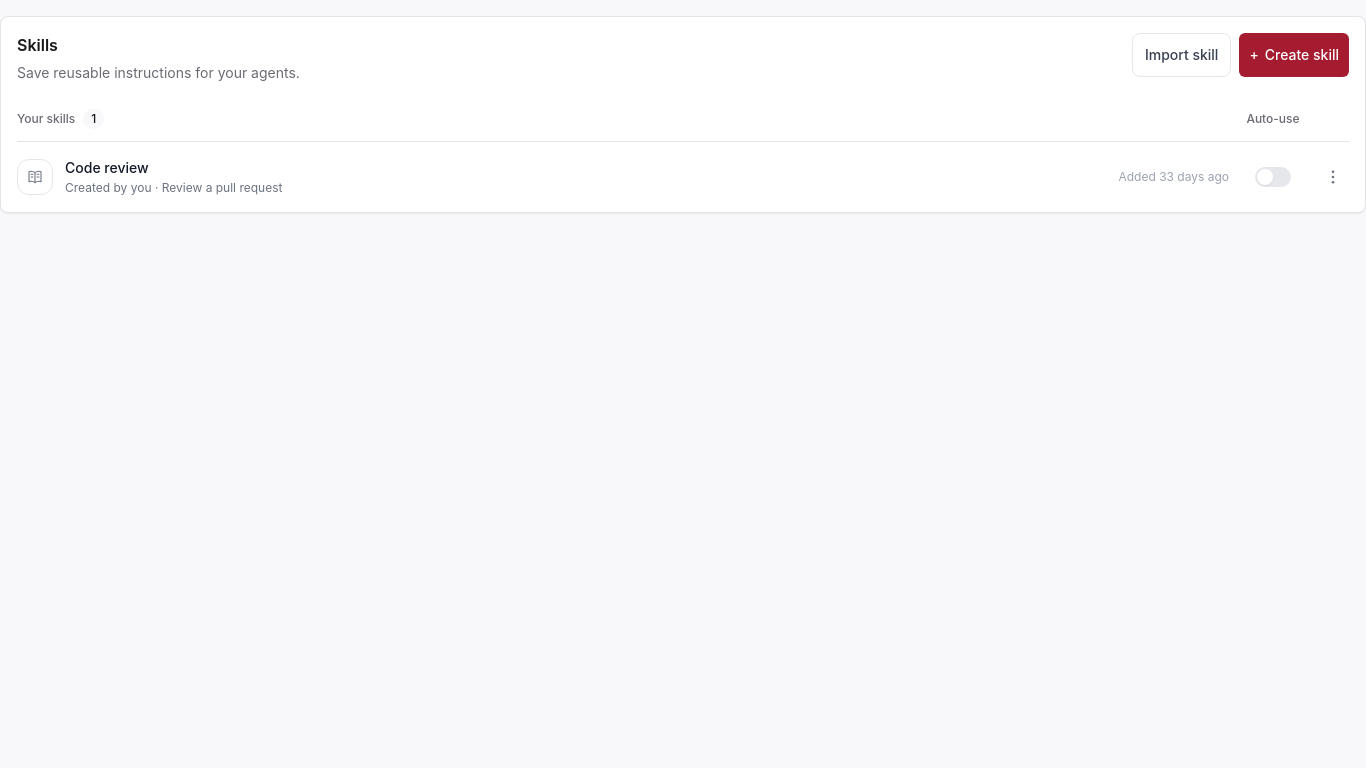
Test case: advertises and checks the current server skill size in the editor
expect the button named "Manage Code review" is shown: met, box [1317,161,1349,193]
Click the button "+ Create skill" at (1294, 55), box [1239,33,1349,77]
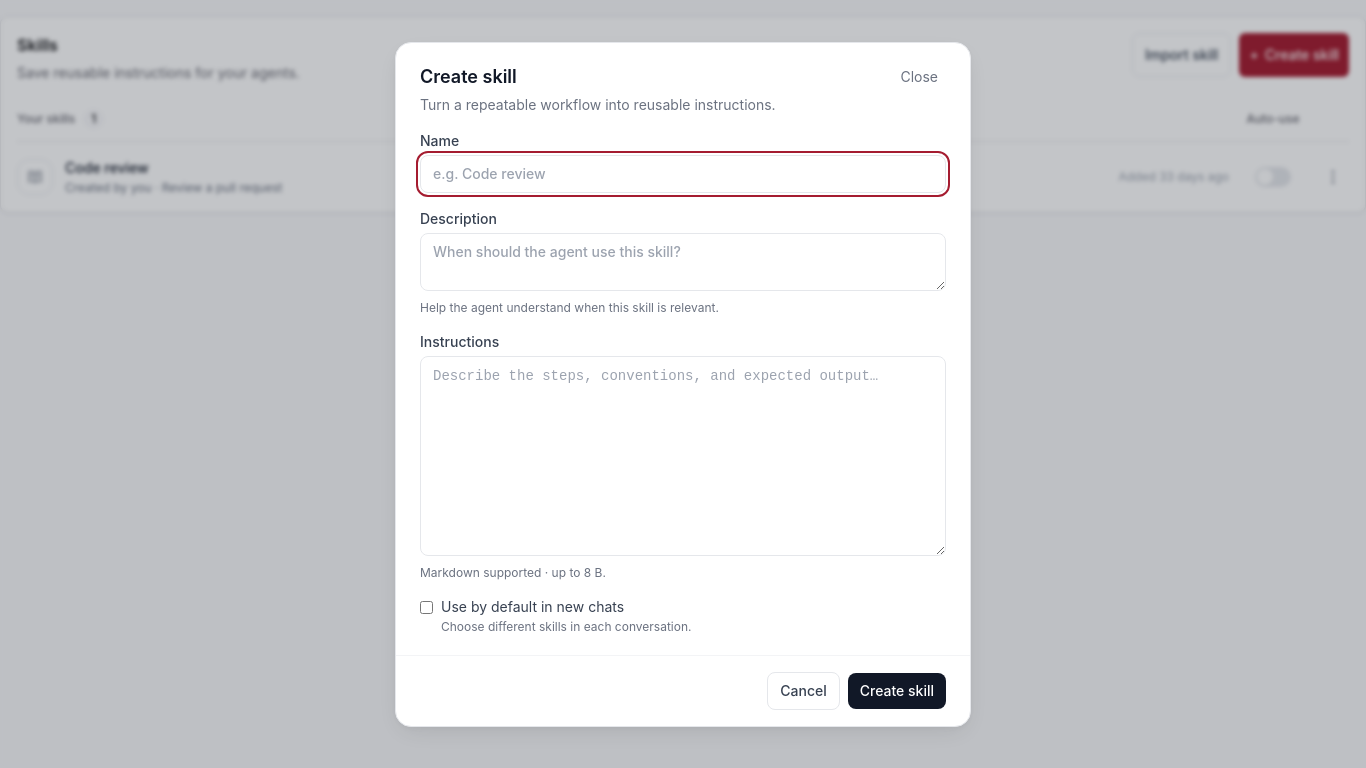
expect the text "Markdown supported · up to 8 B." is shown: met, box [420,564,606,580]
Type "Review" into the field labelled "Name" at (683, 174), box [420,154,946,192]
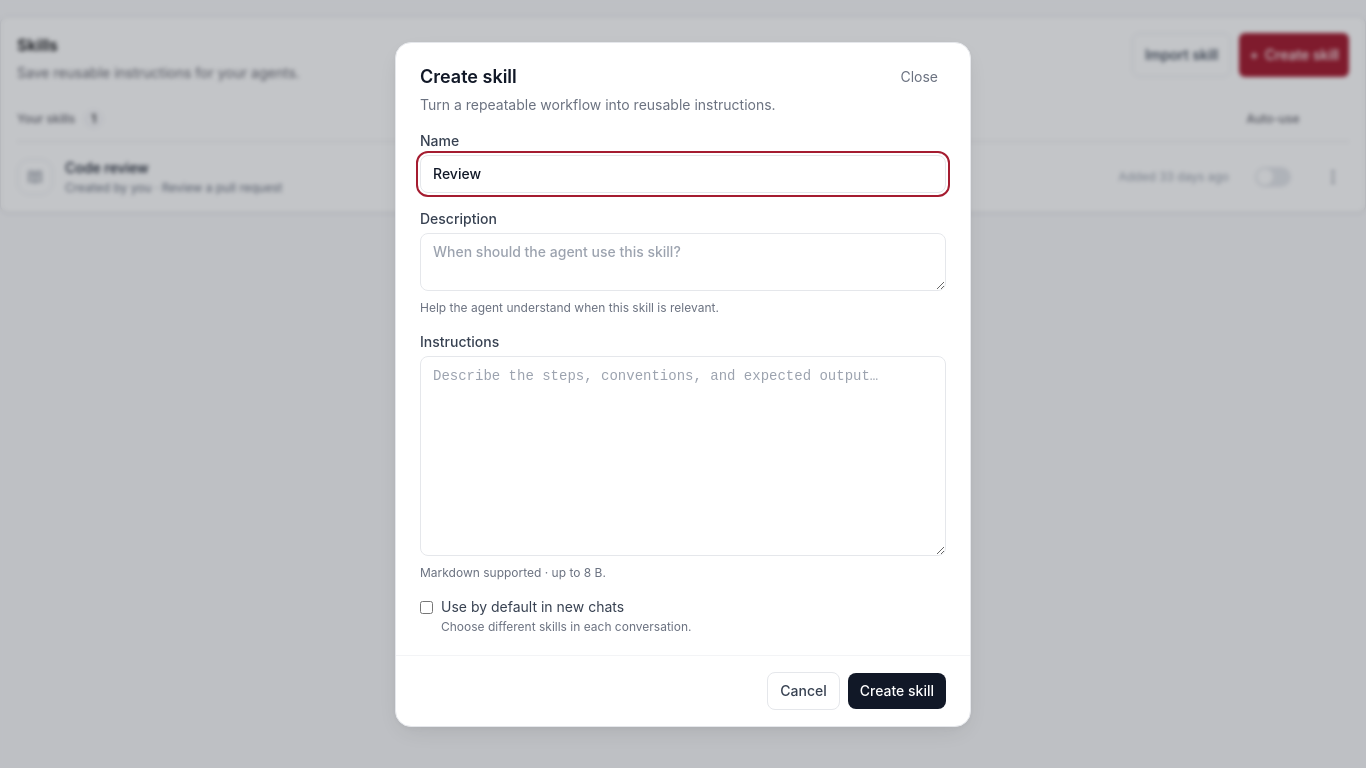
Type "Review" into the text box labelled "Description" at (683, 262), box [420,232,946,290]
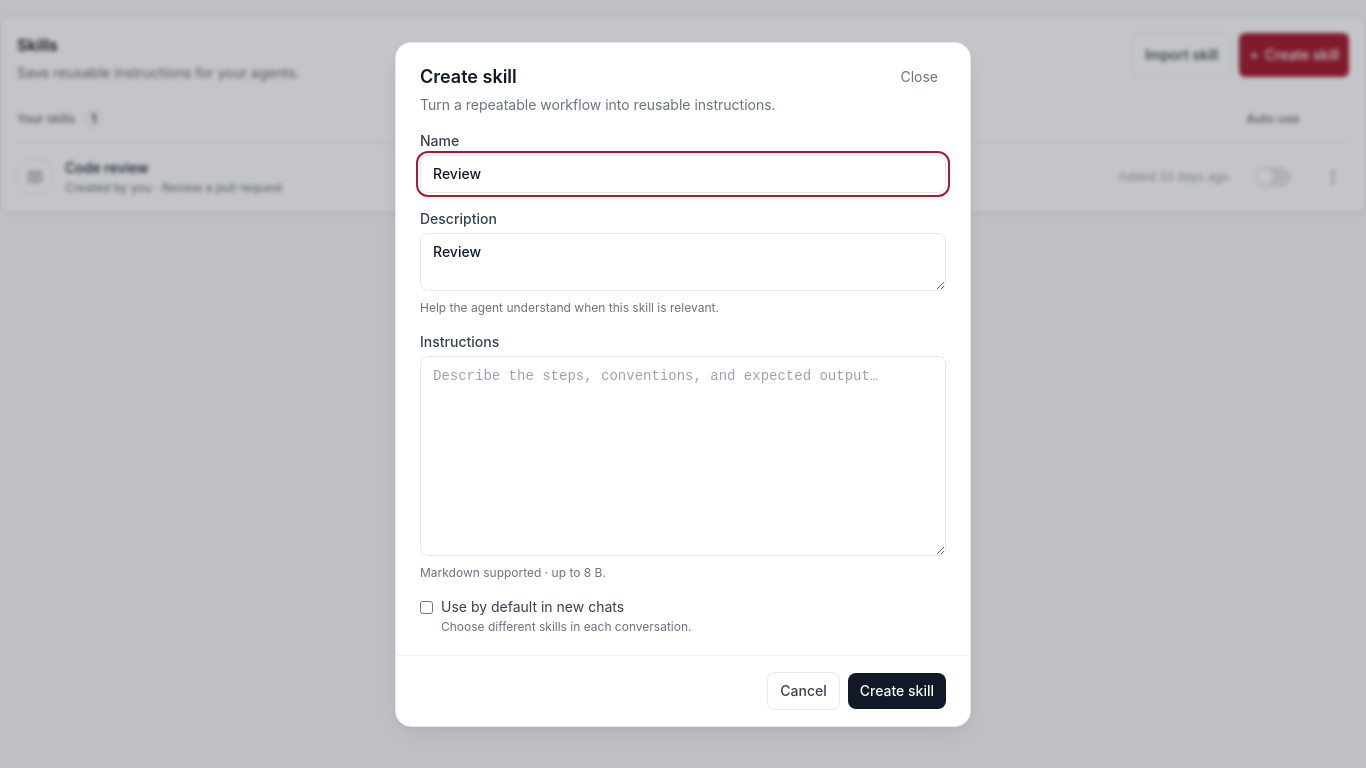
Type "字字字" into the text box labelled "Instructions Markdown supported · up to 8 B." at (683, 456), box [420,356,946,556]
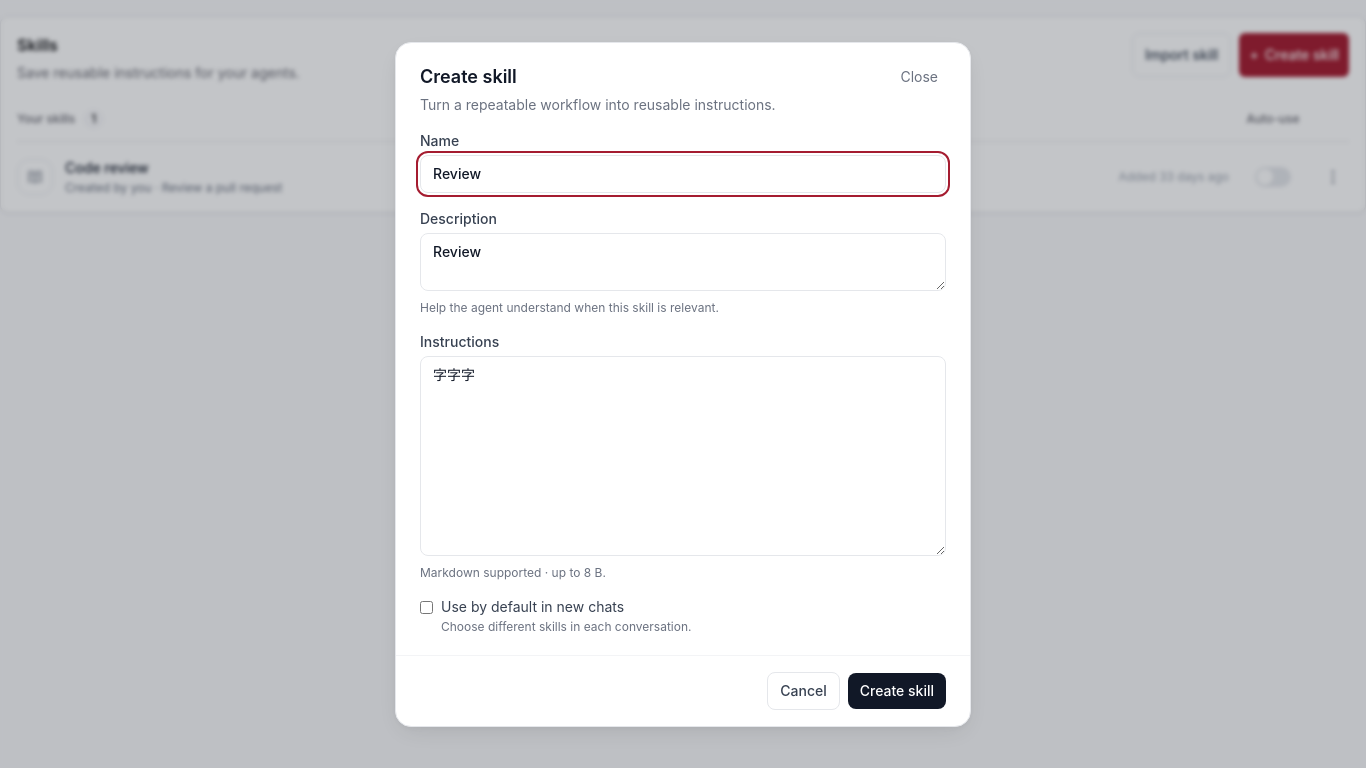
Click the button "Create skill" at (897, 690), box [848,672,946,708]
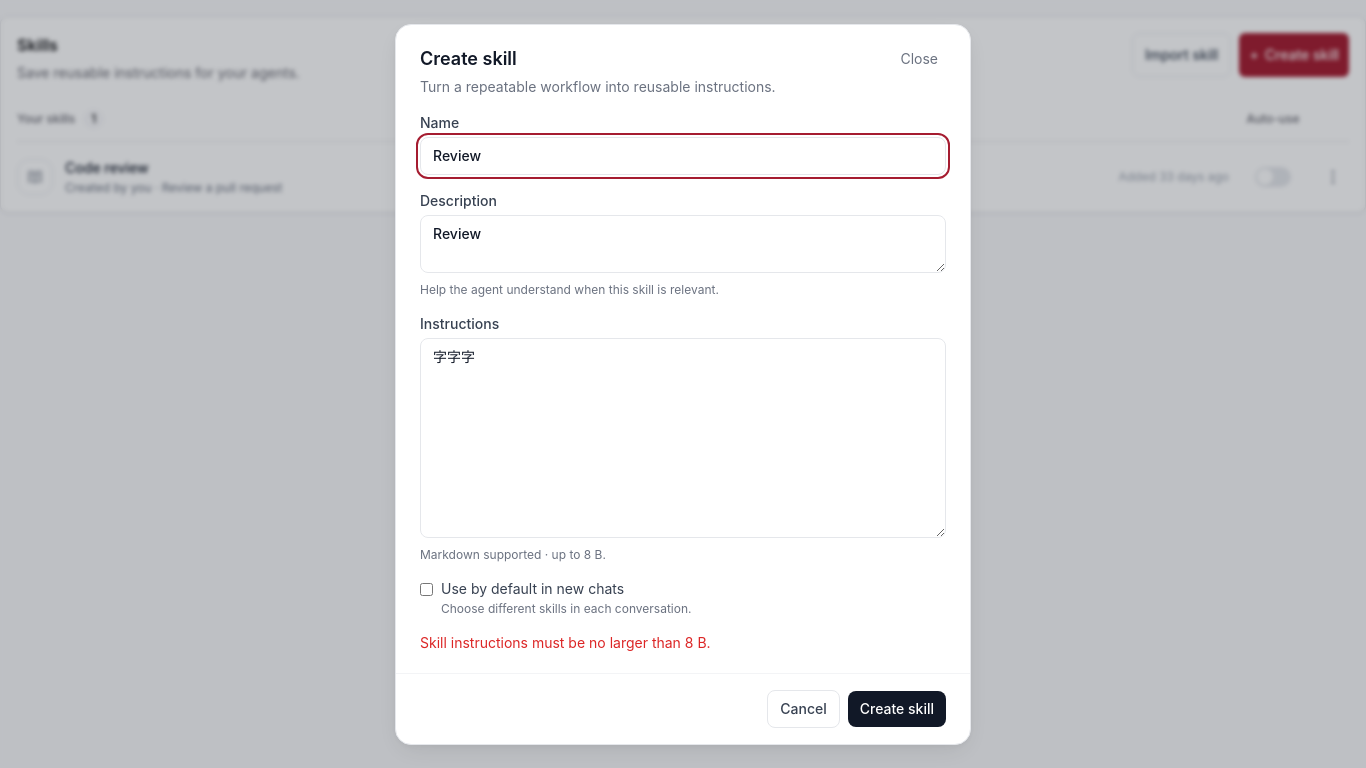
expect the message shows "no larger than 8 B": met, box [420,634,711,650]
